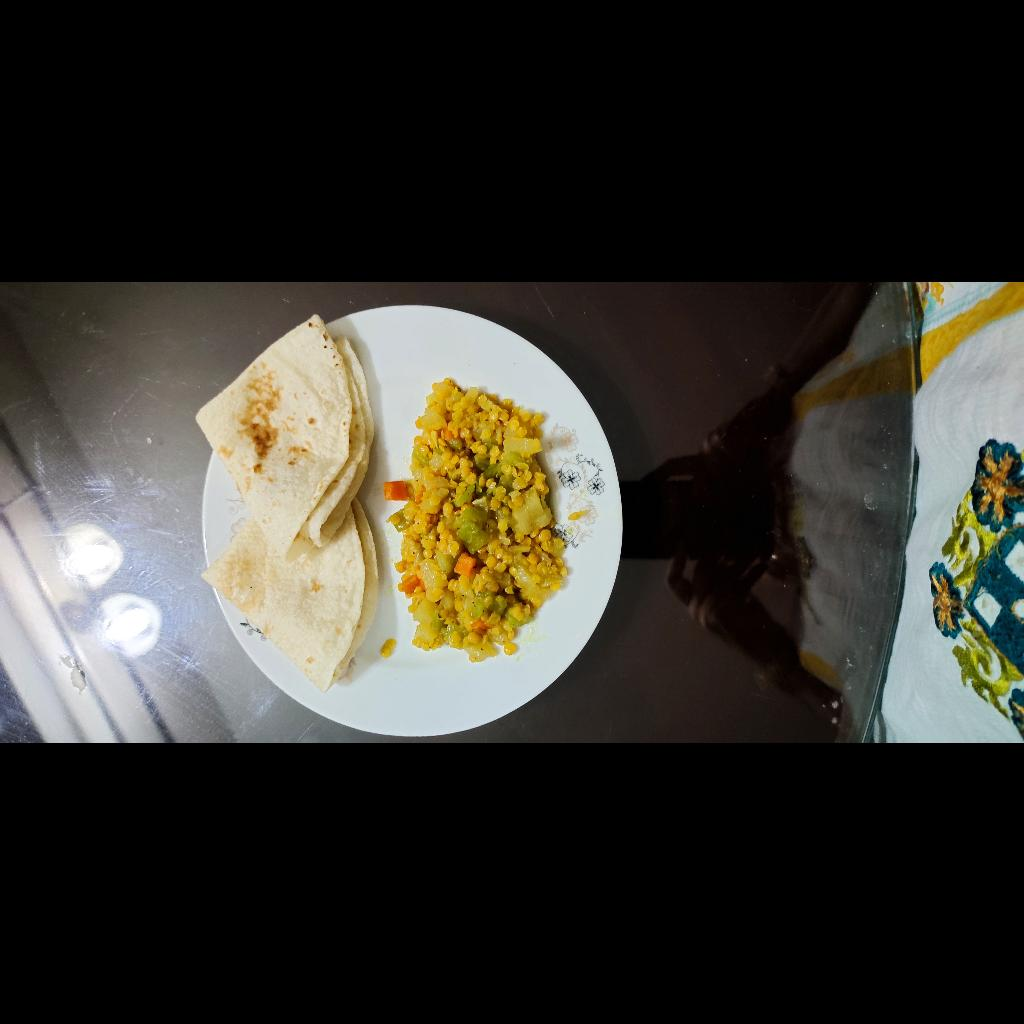daal: (82, 663, 367, 853)
ruti: (48, 469, 429, 660)
